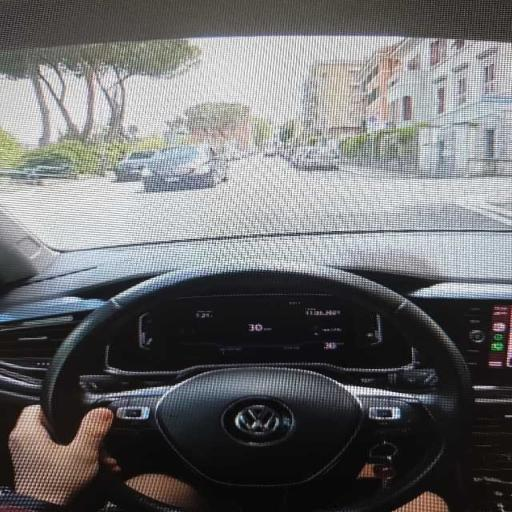car: (0, 0, 511, 511), (141, 146, 227, 191), (11, 161, 76, 184), (115, 151, 159, 181), (290, 148, 339, 171)
lane: (0, 157, 509, 248)
person: (0, 406, 119, 511)
